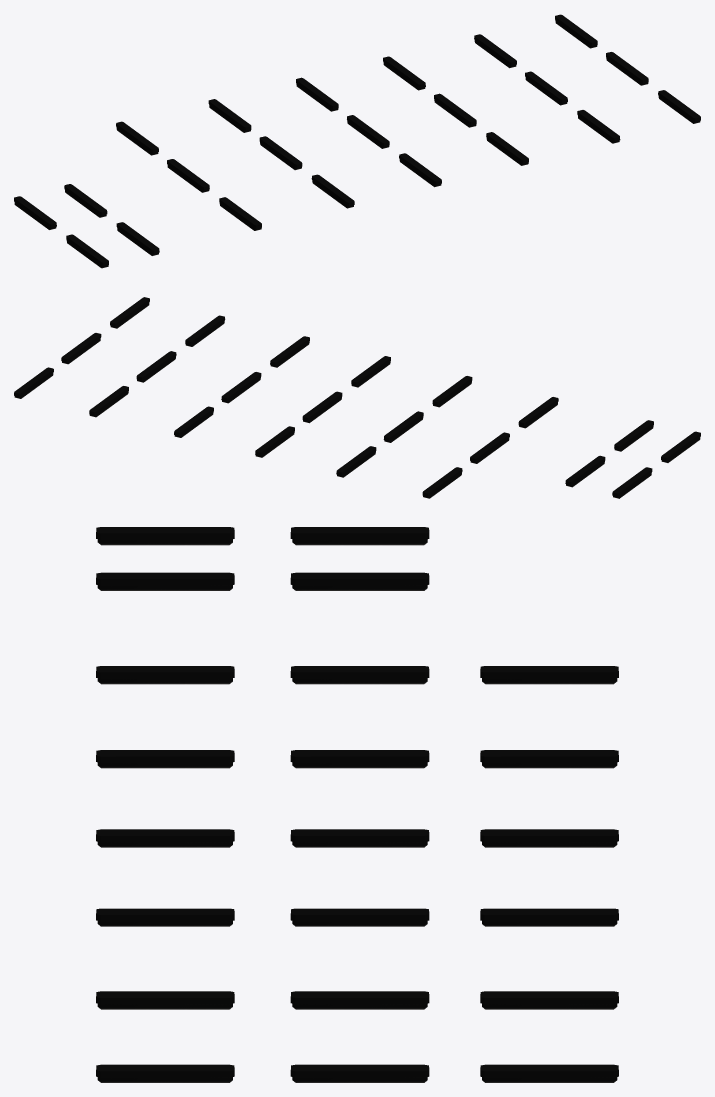
Rendered from Лампы.fbx.
The picture shows the model from 3 angles, top to bottom: view 1: azimuth 30°, elevation 25°; view 2: azimuth 150°, elevation 25°; view 3: azimuth 270°, elevation 25°; orthographic projection. The views are drawn at different scales.
Parts seen in each view (by area): view 1: Лампы; view 2: Лампы; view 3: Лампы.
Part boxes in pixels (x1,y1,x2,y2): Лампы: (14,14,700,268); Лампы: (14,297,700,498); Лампы: (96,527,618,1082).
Bounding box in the file's own units: 842 × 8.59 × 342.
1 material, 1 textured.
